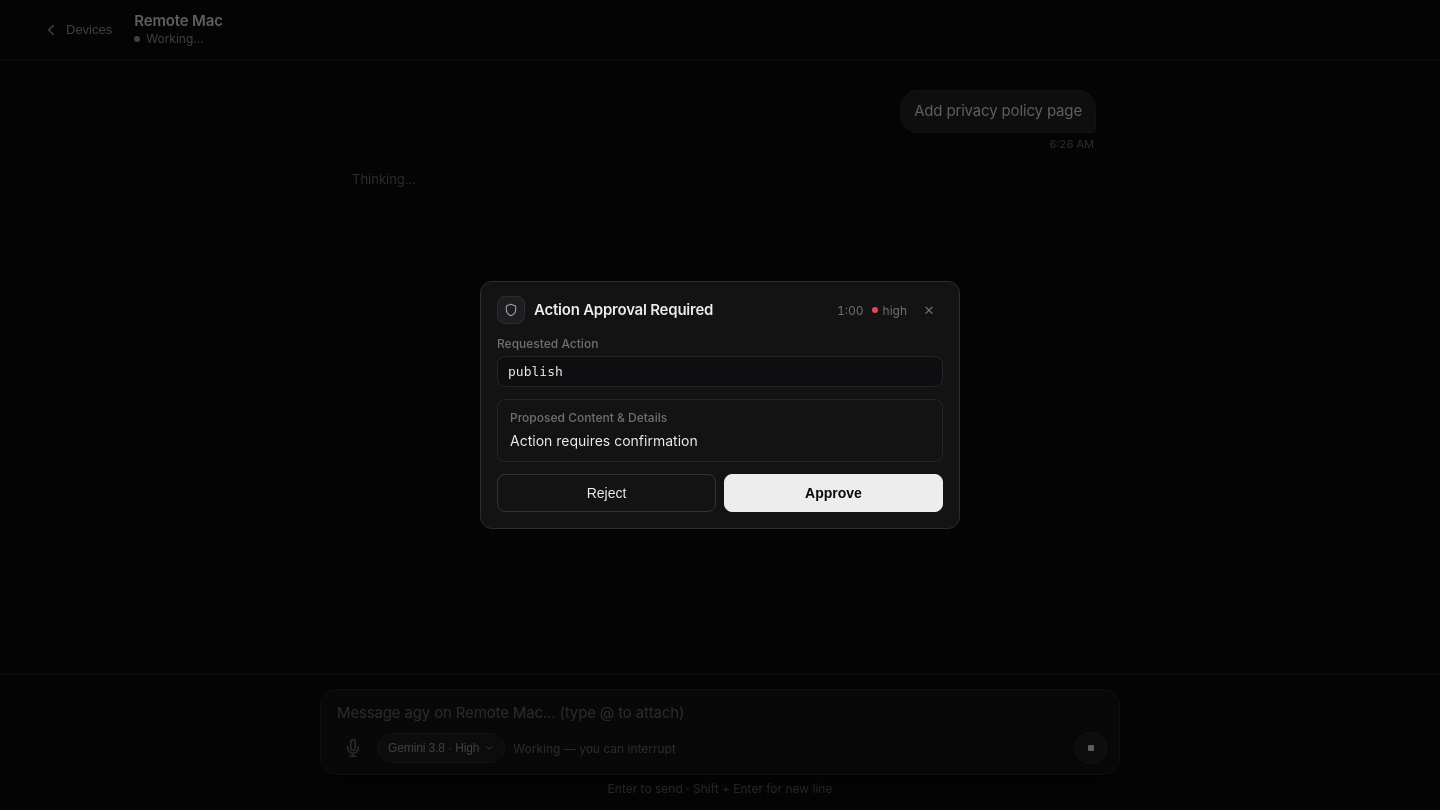
Test: Web App Workflow › opens approval sheet and sends approval decision
Check: the heading "Action Approval Required" is shown, box [534,300,713,320]
Click the button with test id "approve-approval-btn": {"x": 834, "y": 493} [724,474,943,512]
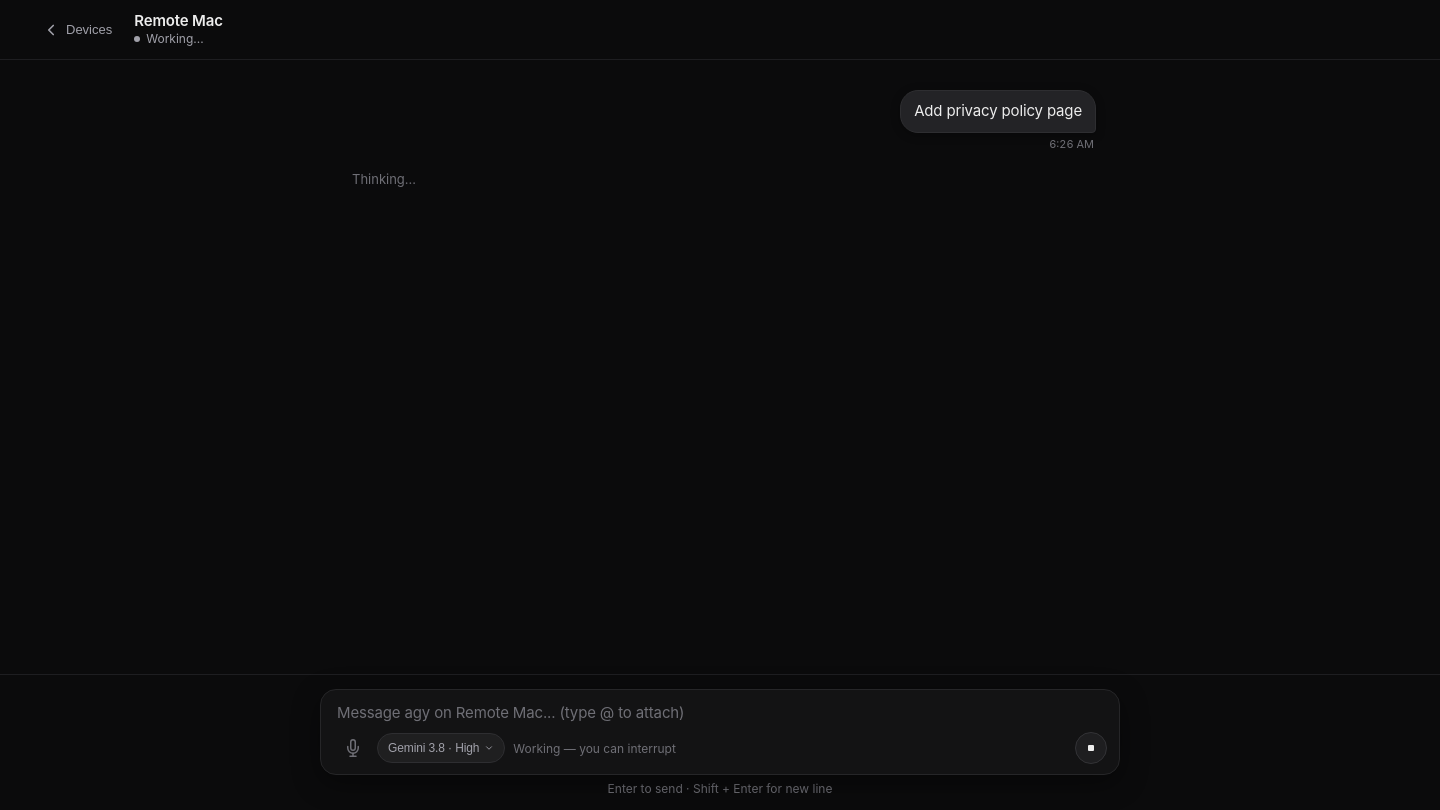
Check: the dialog with test id "approval-sheet" is gone
